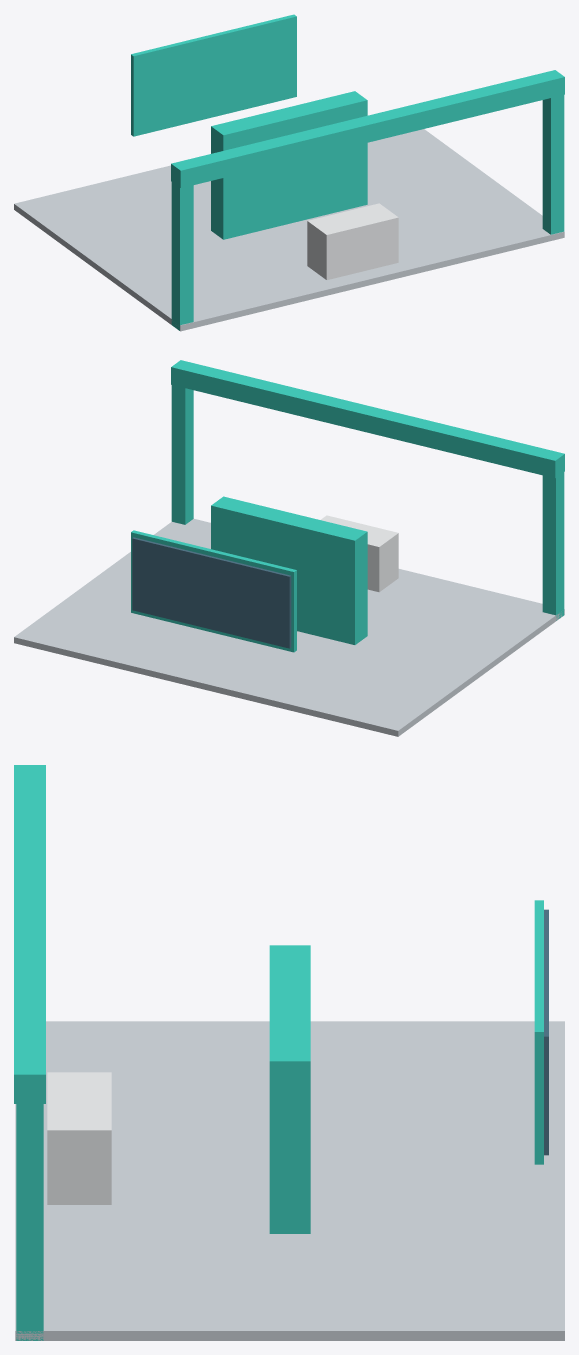
3 renders of one model, top to bottom at view 1: azimuth 30°, elevation 25°; view 2: azimuth 150°, elevation 25°; view 3: azimuth 270°, elevation 25°, orthographic. The views are drawn at different scales.
Parts seen in each view (by area): view 1: Exhibition Booth Concept; view 2: Exhibition Booth Concept; view 3: Exhibition Booth Concept.
Boxes of the visible parts, x1=… form: Exhibition Booth Concept: x1=14, y1=14, x2=564, y2=331; Exhibition Booth Concept: x1=14, y1=360, x2=564, y2=736; Exhibition Booth Concept: x1=14, y1=765, x2=564, y2=1340.
Size of the model in its own units: 8 by 3.2 by 6.02.
